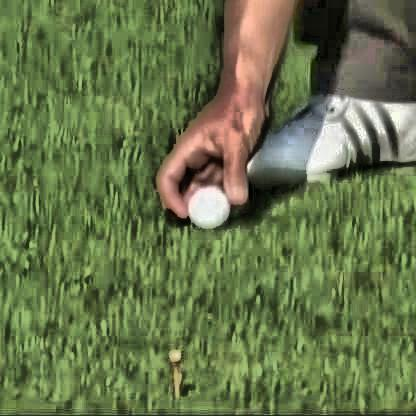golfball: (187, 182, 226, 224)
